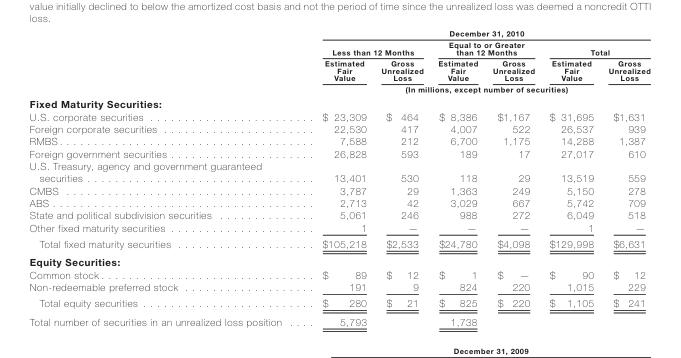table: (28, 28, 649, 326)
table column: (28, 28, 301, 326), (301, 28, 373, 326), (541, 28, 600, 326), (373, 28, 430, 326), (484, 28, 541, 326), (430, 28, 484, 326), (600, 28, 649, 326)
table column header: (28, 28, 649, 95)
table projected row header: (28, 252, 649, 268), (28, 95, 649, 110)
table row: (28, 57, 649, 82), (28, 159, 649, 184), (28, 38, 649, 57), (28, 235, 649, 252), (28, 294, 649, 311), (28, 252, 649, 268), (28, 95, 649, 110), (28, 311, 649, 326), (28, 221, 649, 235), (28, 280, 649, 294), (28, 82, 649, 95), (28, 134, 649, 147), (28, 208, 649, 221), (28, 110, 649, 122), (28, 122, 649, 134), (28, 147, 649, 159), (28, 184, 649, 196), (28, 196, 649, 208), (28, 268, 649, 280), (28, 28, 649, 38)
table spanning cell: (301, 82, 649, 95), (301, 28, 649, 38), (301, 38, 430, 57), (430, 38, 541, 57), (541, 38, 649, 57)
